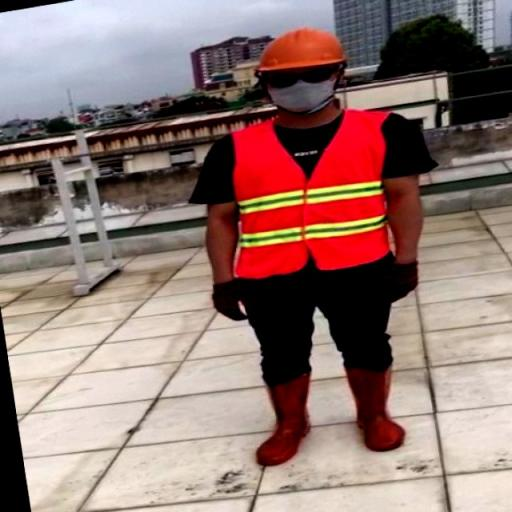Person: (139, 0, 467, 485)
boots: (239, 366, 324, 460), (342, 365, 414, 449)
gloves: (207, 276, 248, 323), (384, 259, 422, 297)
goggles: (268, 70, 333, 88)
helmet: (260, 22, 345, 74)
vest: (218, 104, 398, 281)
